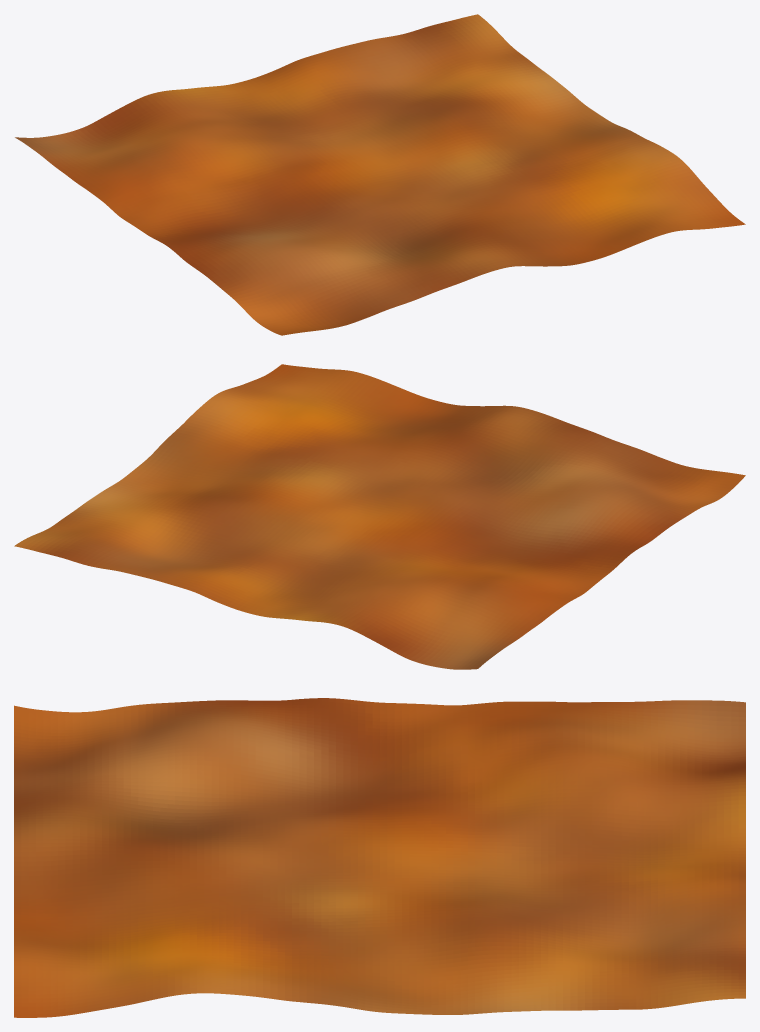
The model's file is ground.FBX.
The picture shows the model from 3 angles, top to bottom: view 1: azimuth 30°, elevation 25°; view 2: azimuth 150°, elevation 25°; view 3: azimuth 270°, elevation 25°; orthographic projection. The views are drawn at different scales.
Visible parts, largest first — view 1: Ground; view 2: Ground; view 3: Ground.
Boxes of the visible parts, <box> form: Ground: <box>15,14,745,335</box>; Ground: <box>14,364,745,669</box>; Ground: <box>14,698,745,1017</box>.
Bounding box in the file's own units: 100 × 4.75 × 100.
